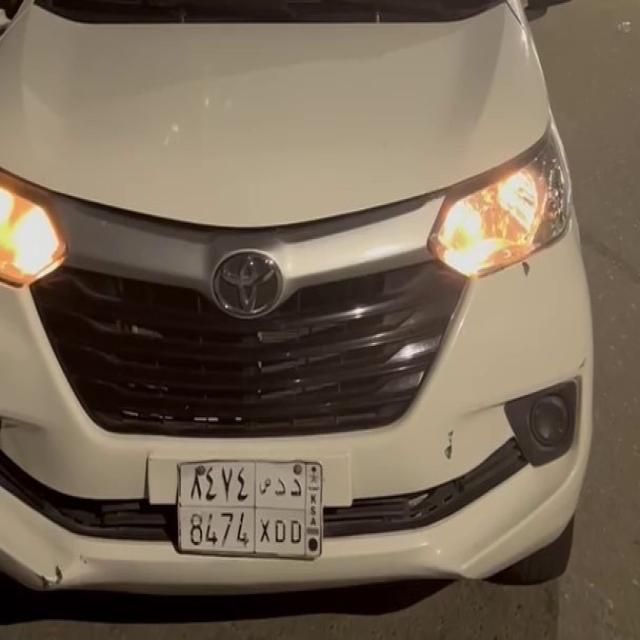Car-plate: (169, 446, 327, 568)
